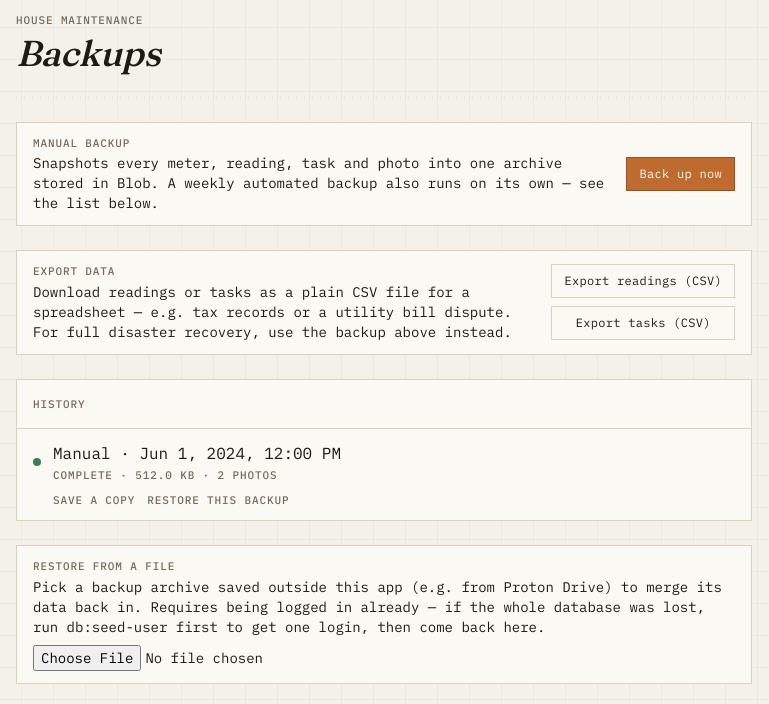
Test case: Backups › shares a backup and shows the outcome
This screenshot has width=769, height=704.
Click the button "Save a copy". click: (94, 500)
box: [53,492,135,508]
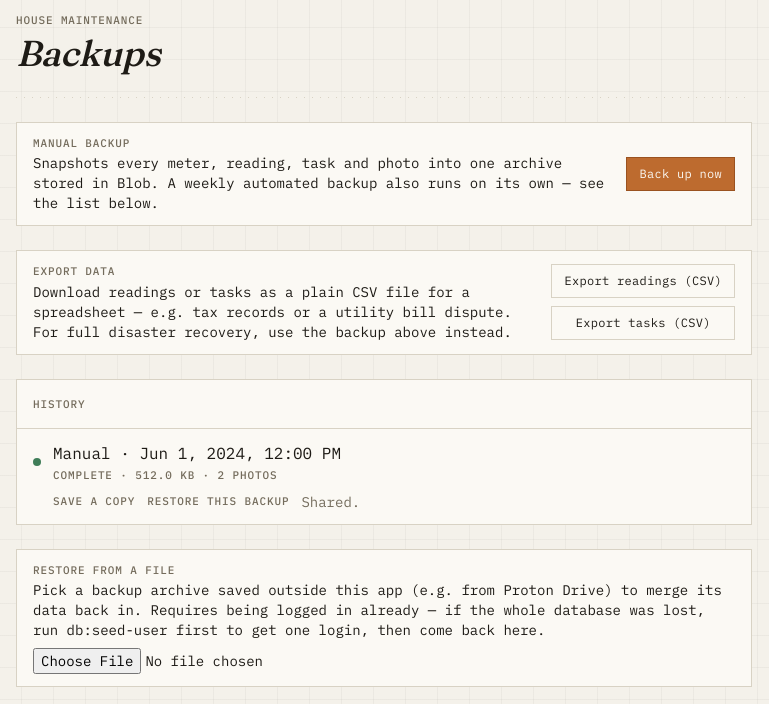
Check: the text "Shared." is shown, box [301,492,360,512]
